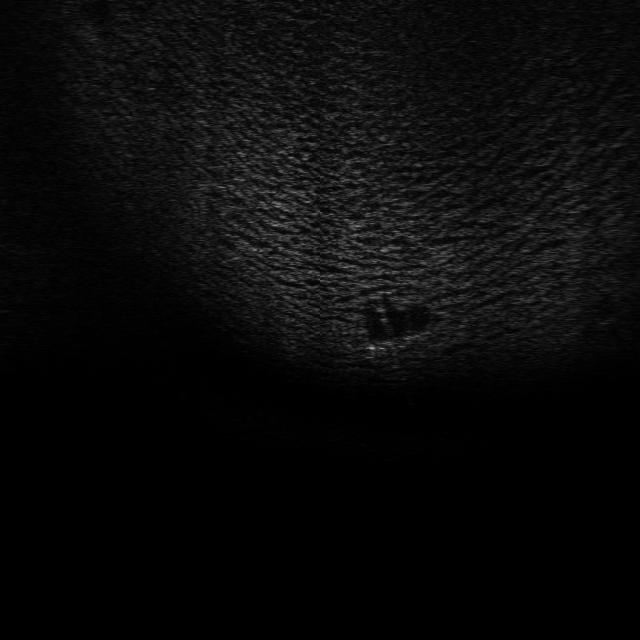plane: (362, 332, 431, 362)
